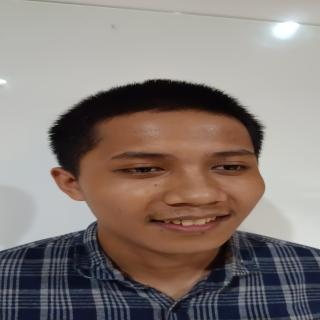Senang: (73, 106, 288, 262)
